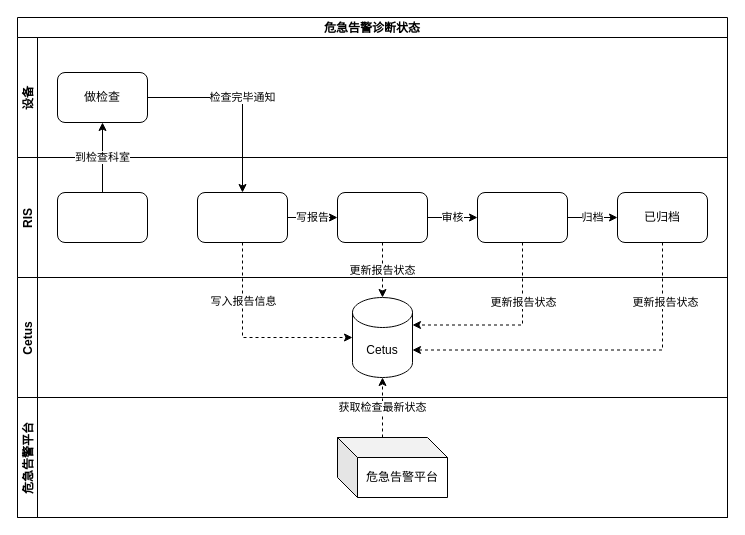
Image size: 745x535. Some labels were removed from this diagram. The shapes that lost their labels are listed below. From the top down, each one's centre as x and y in pixels, then its label:
At (102,217): "已分诊".
At (242,217): "已检查".
At (382,217): "已诊断(已报告)".
At (522,217): "已审核".
